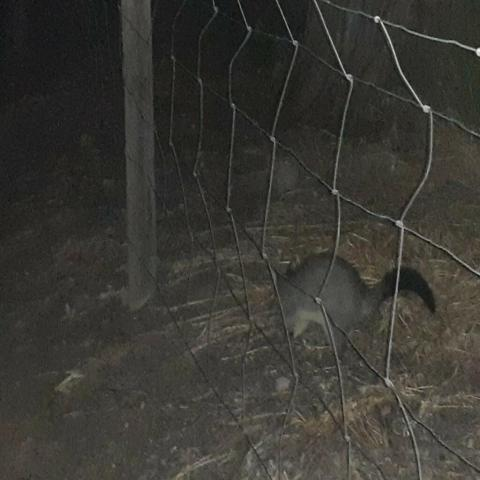small_animal: (270, 248, 437, 347)
